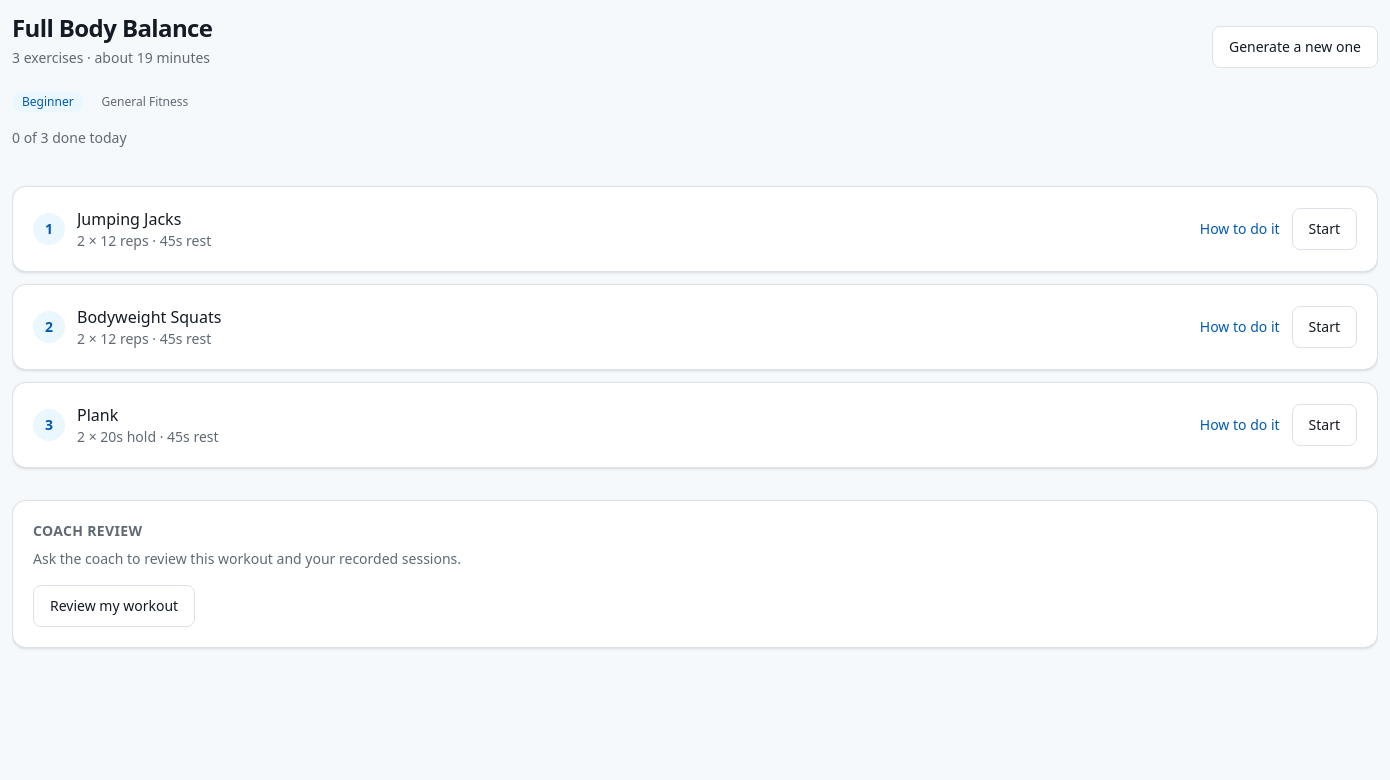
Test: the workout page › reports a generation failure instead of doing nothing visible
This screenshot has width=1390, height=780.
Expected: the text "Jumping Jacks" is shown, [77,207,181,231]
Click the button "Generate a new one". click: [1295, 47]
box: [1212,26,1378,68]
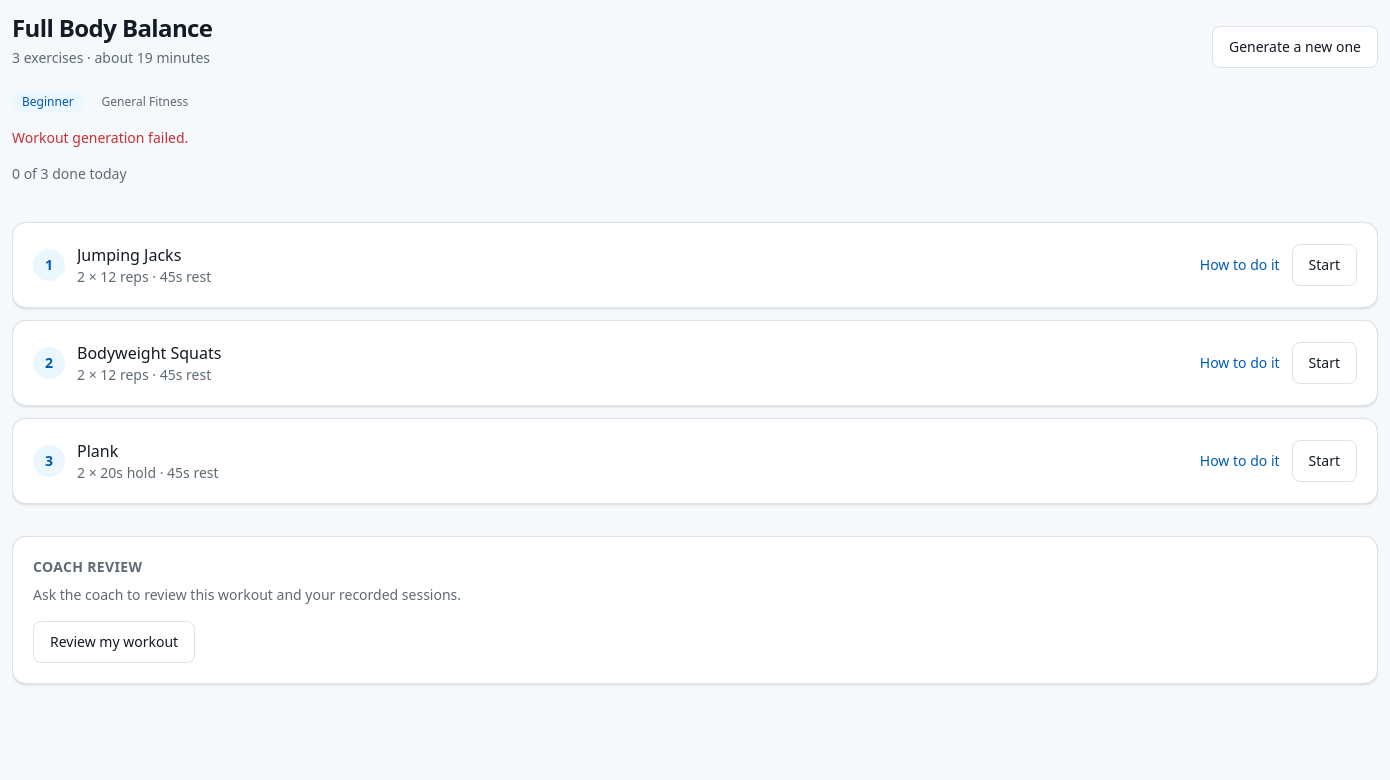
Expected: the message shows "Workout generation failed", [12,128,188,147]
